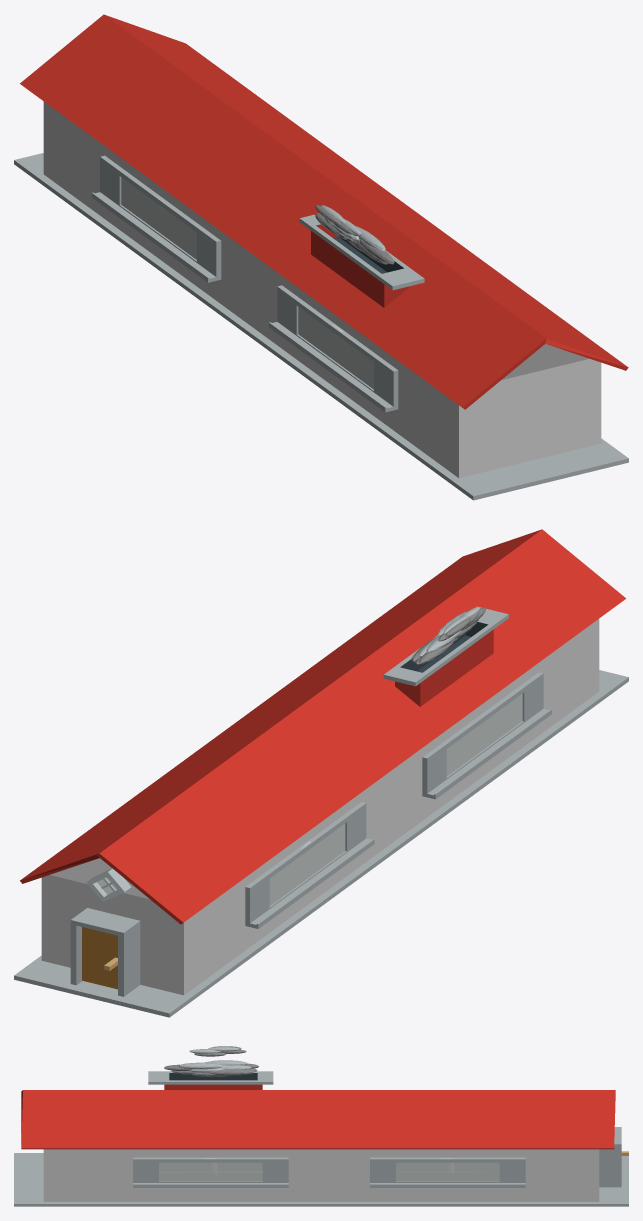
File: single.glb
3 renders of one model, top to bottom at view 1: azimuth 30°, elevation 25°; view 2: azimuth 150°, elevation 25°; view 3: azimuth 270°, elevation 25°, orthographic. The views are drawn at different scales.
Visible parts, largest first — view 1: world; view 2: world; view 3: world.
Boxes of the visible parts, x1,y1,x2,y2 form: world: (14, 14, 628, 500); world: (14, 529, 628, 1017); world: (14, 1046, 628, 1206).
Bounding box in the file's own units: 4.27 × 4.11 × 20.12.
